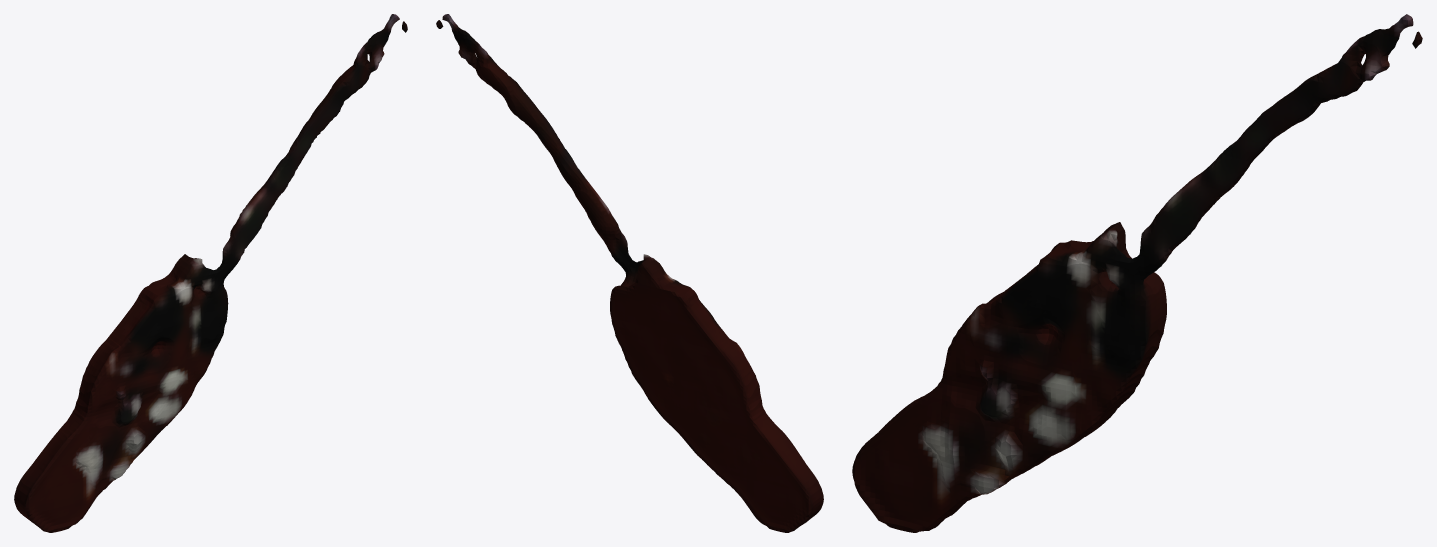
File: Guitar_1749672082.obj
The picture shows the model from 3 angles, left to right: view 1: azimuth 30°, elevation 25°; view 2: azimuth 150°, elevation 25°; view 3: azimuth 330°, elevation 25°; orthographic projection. The views are drawn at different scales.
Size of the model in its own units: 1.81 by 1.93 by 0.1357.
